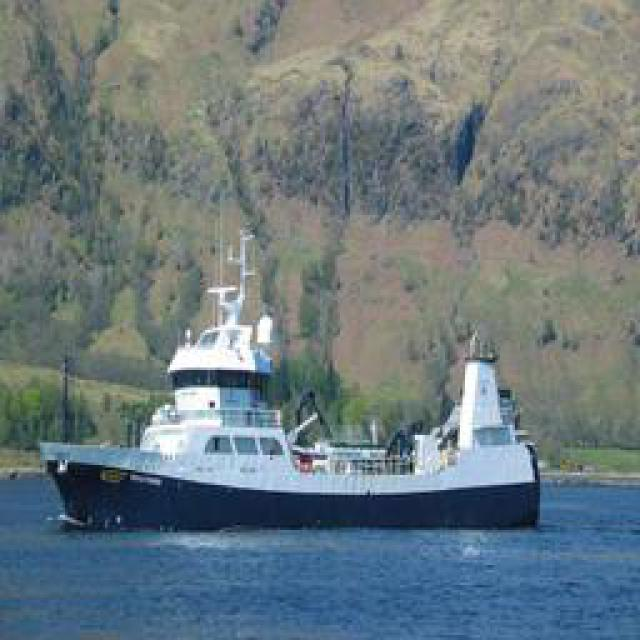Ship: (26, 315, 546, 540)
